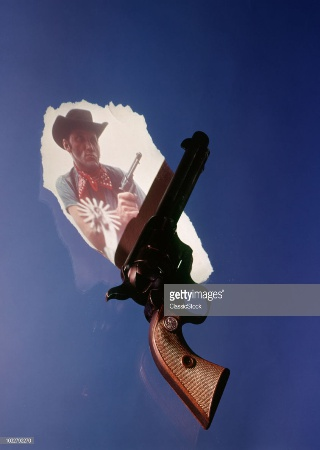handgun: (107, 128, 231, 431)
